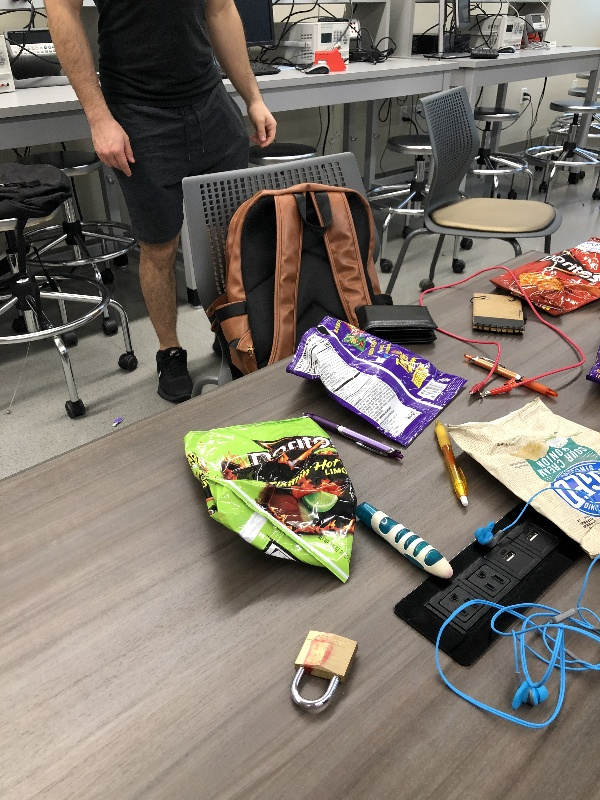bag: (177, 413, 361, 589), (443, 394, 600, 567), (281, 313, 472, 449), (486, 230, 600, 324)
